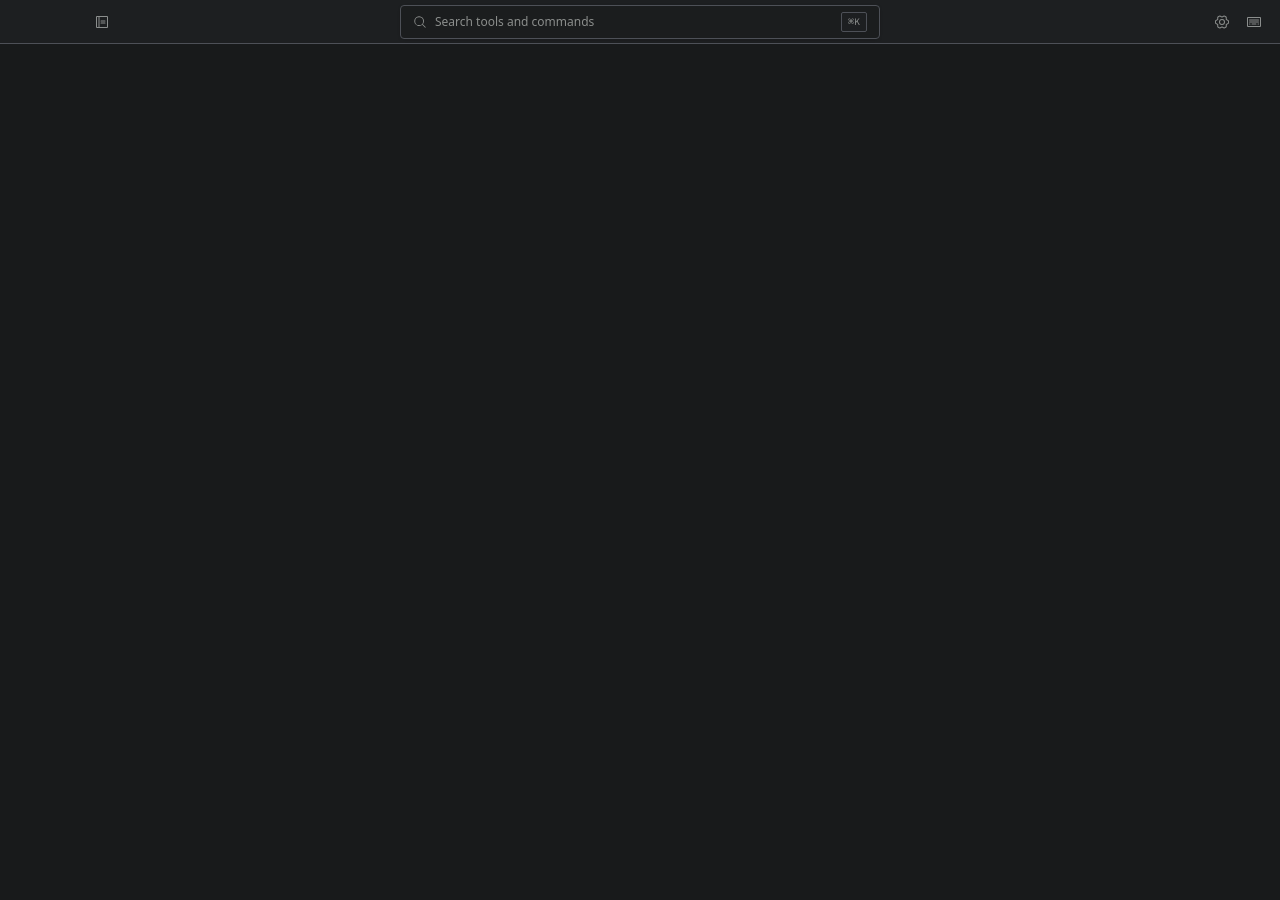
Test: TitleBar — command palette trigger › preserves pointer focus until the palette input mounts and accepts search text
Press the mouse on the dropdown labelled "Search tools and commands": (634, 22) [435,14,833,30]
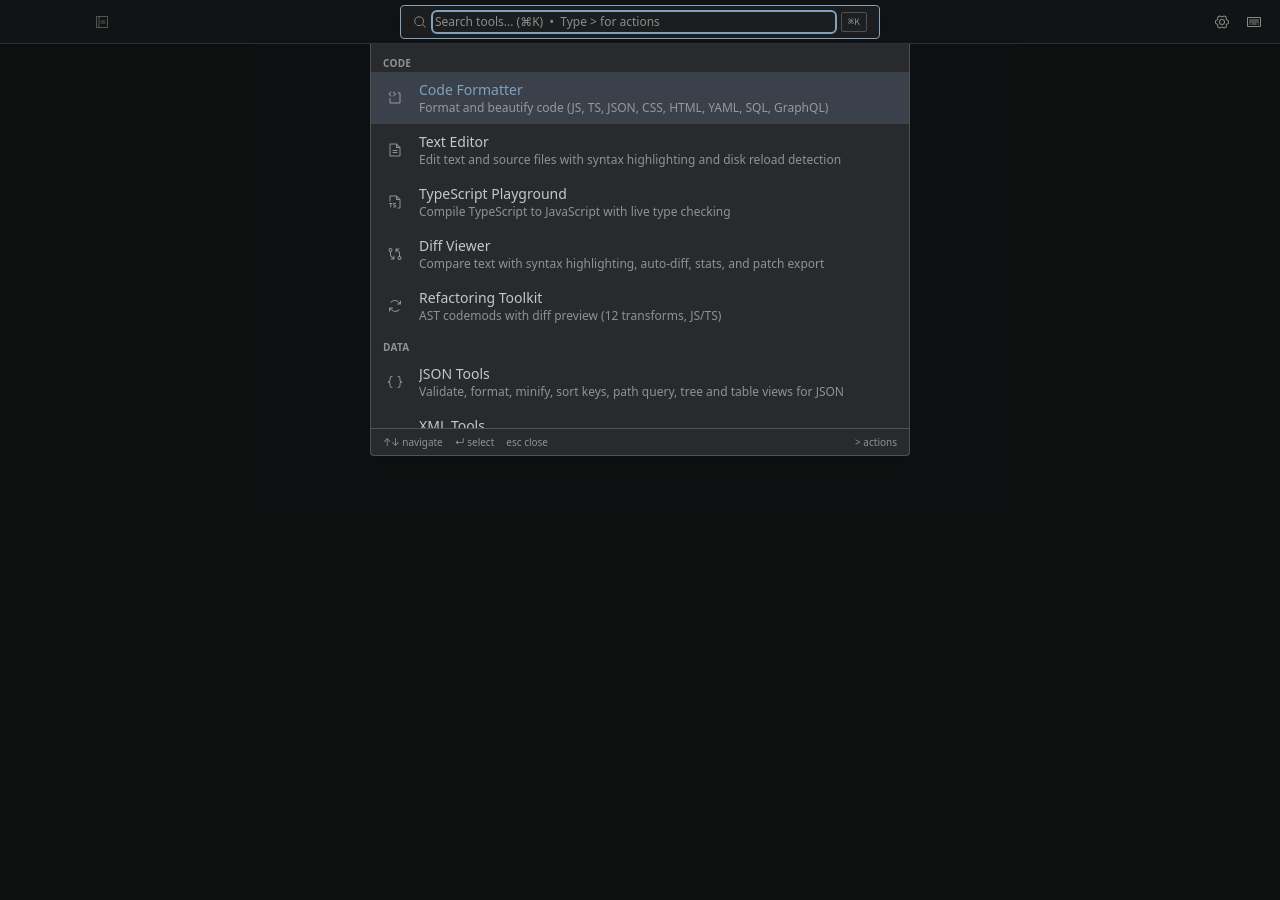
In the dropdown named "Search tools and commands": (634, 22) [435,14,833,30], type "base64"
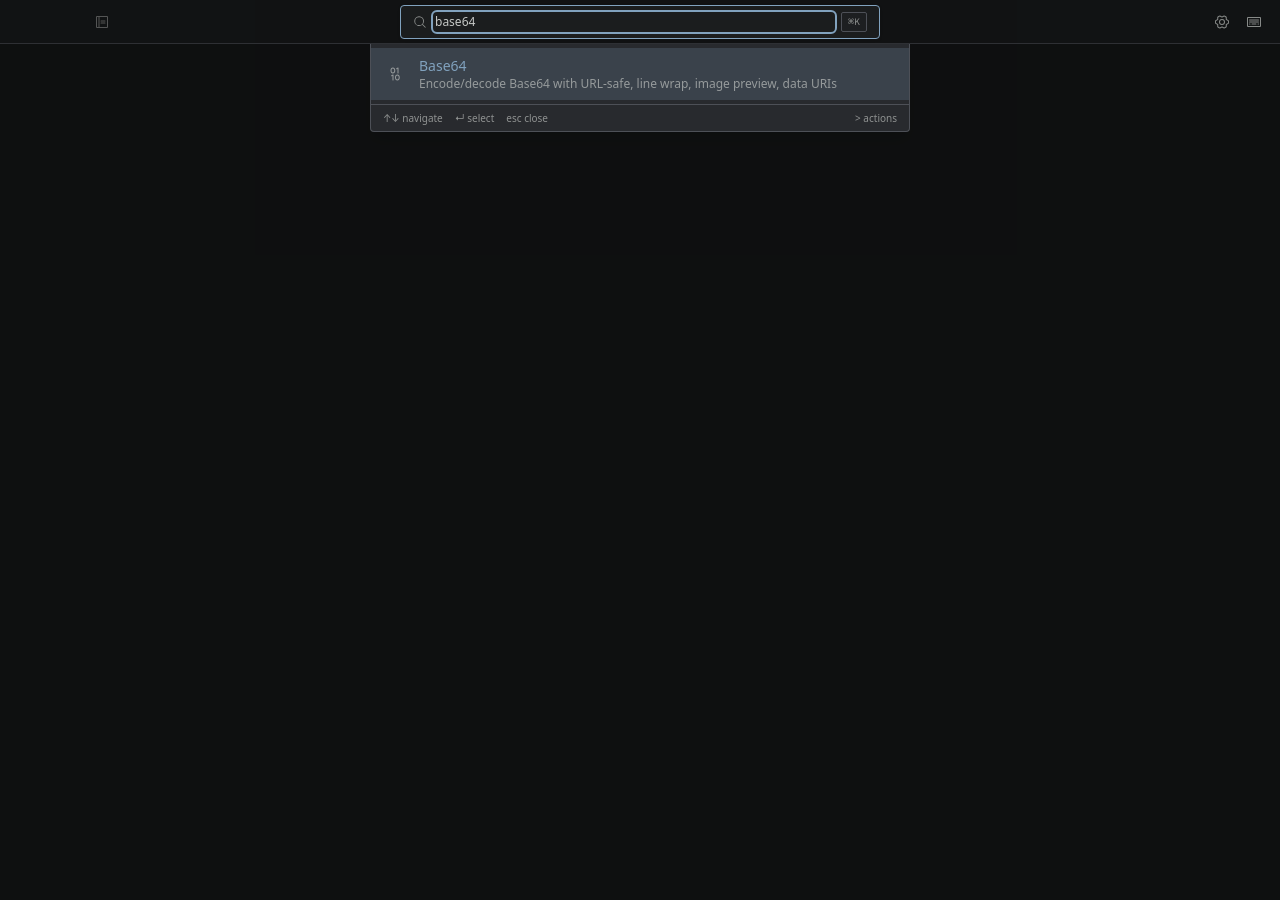
Check: the option "Base64" is shown, box [371,48,909,100]
